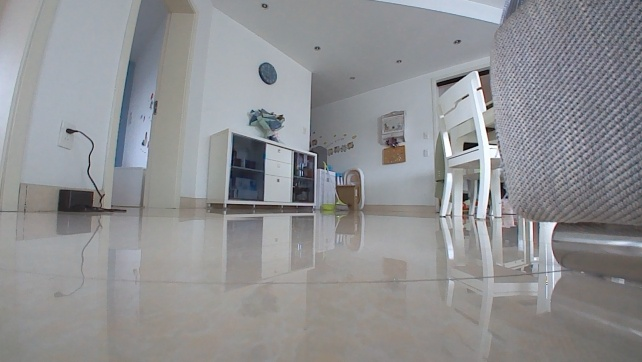charger: (54, 186, 104, 214)
dining_table: (432, 66, 514, 221)
wire: (70, 128, 129, 212)
